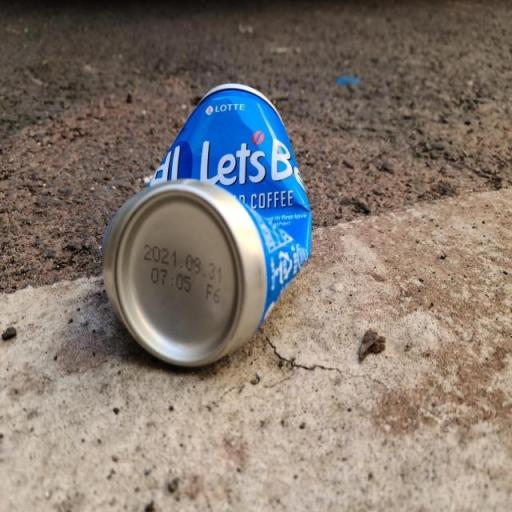metal: (74, 62, 353, 384)
